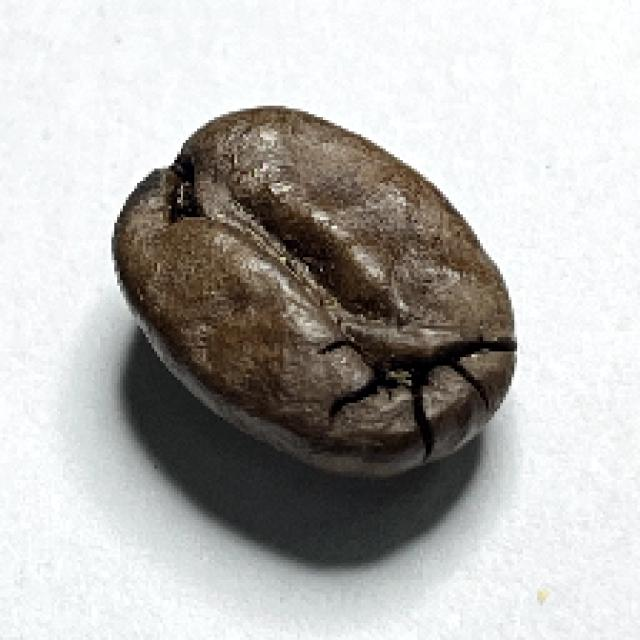bean: (106, 102, 522, 475)
